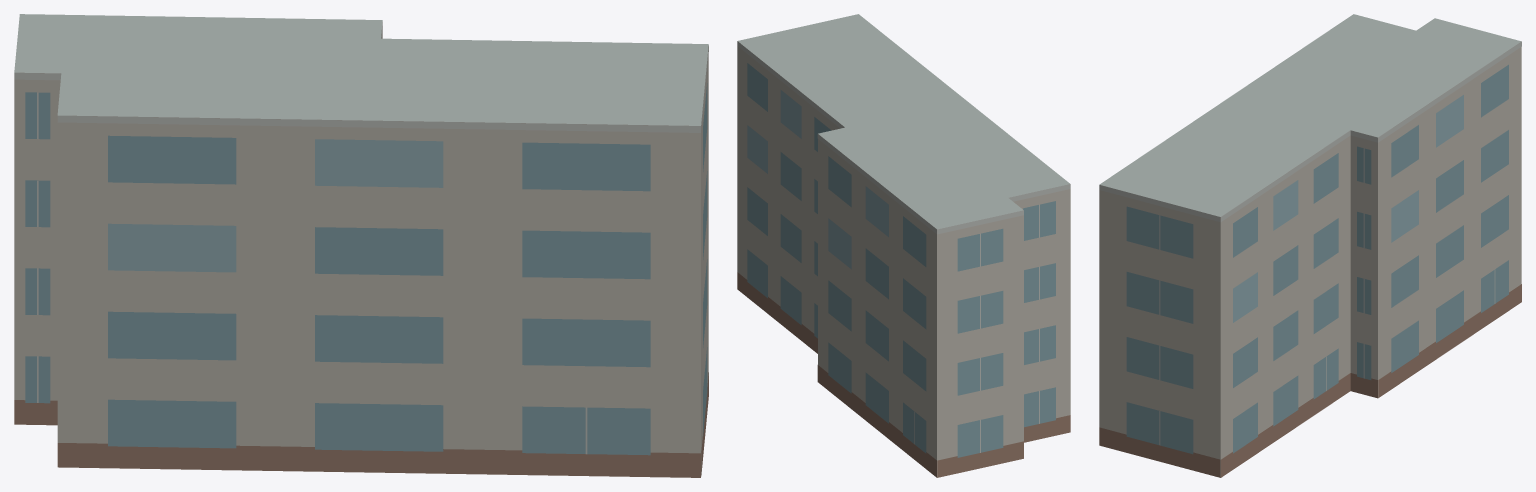
File: residential-df805be7-e3e5-49ad-95bb-7478b5700204.glb
The picture shows the model from 3 angles, left to right: view 1: azimuth 30°, elevation 25°; view 2: azimuth 150°, elevation 25°; view 3: azimuth 270°, elevation 25°; orthographic projection. The views are drawn at different scales.
Visible parts, largest first — view 1: residential-df805be7-e3e5-49ad-95bb-7478b5700204.tmp; view 2: residential-df805be7-e3e5-49ad-95bb-7478b5700204.tmp; view 3: residential-df805be7-e3e5-49ad-95bb-7478b5700204.tmp.
Part boxes in pixels (<box>): residential-df805be7-e3e5-49ad-95bb-7478b5700204.tmp: <box>14,14,708,477</box>; residential-df805be7-e3e5-49ad-95bb-7478b5700204.tmp: <box>737,14,1070,477</box>; residential-df805be7-e3e5-49ad-95bb-7478b5700204.tmp: <box>1099,14,1521,477</box>.
Size of the model in its own units: 20.38 by 12.2 by 17.92.
